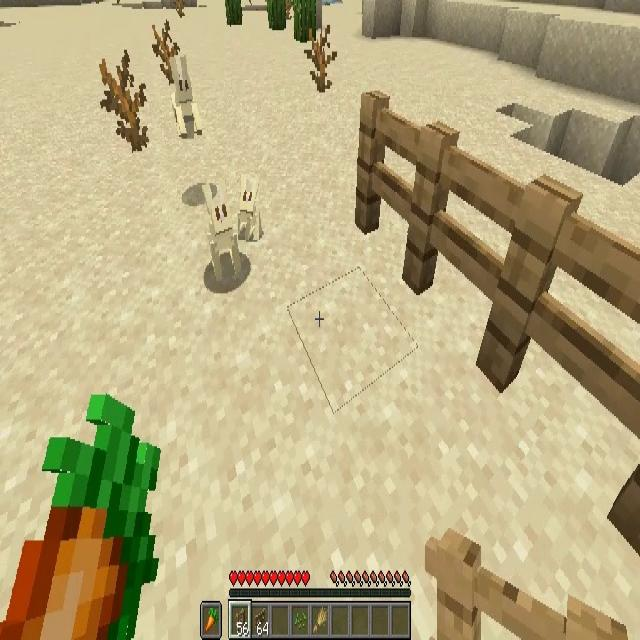rabbit: (204, 181, 239, 279), (171, 60, 195, 138), (238, 174, 259, 240)
